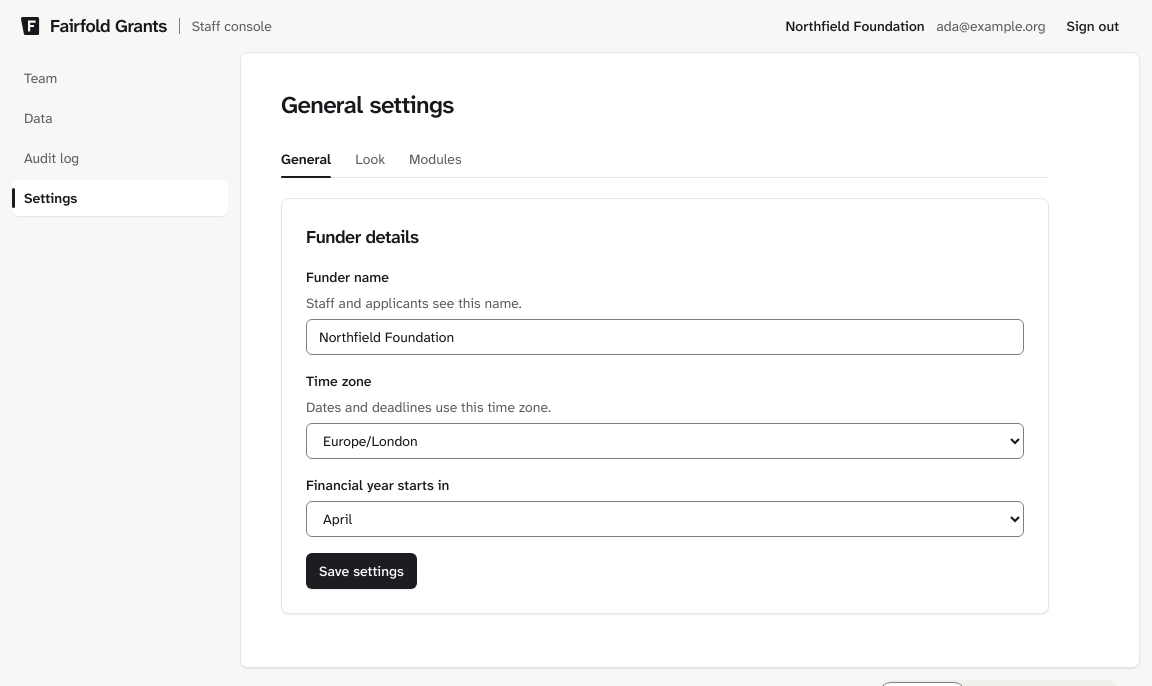
Test: the general settings page › says what is wrong beside the field and in the summary, from the API's answer
The image size is (1152, 686).
In the field labelled "Funder name": coordinates (665, 337) x1=306 y1=319 x2=1024 y2=355, type "!"
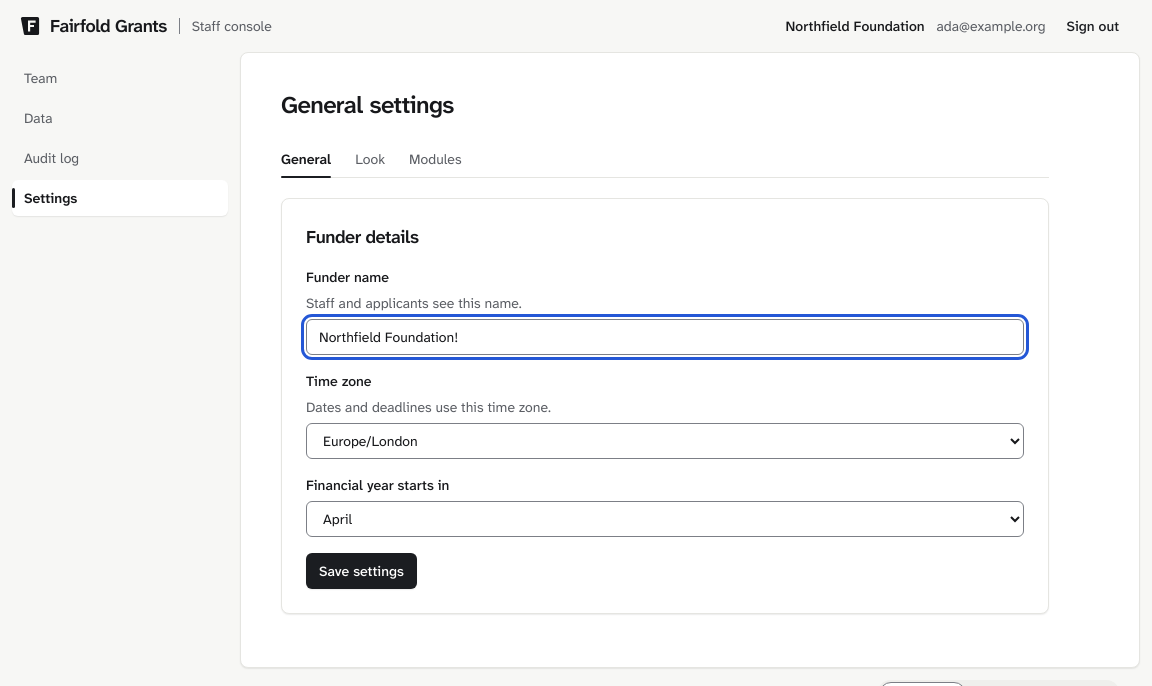
Click the button "Save settings": coordinates (361, 571) x1=306 y1=553 x2=417 y2=589
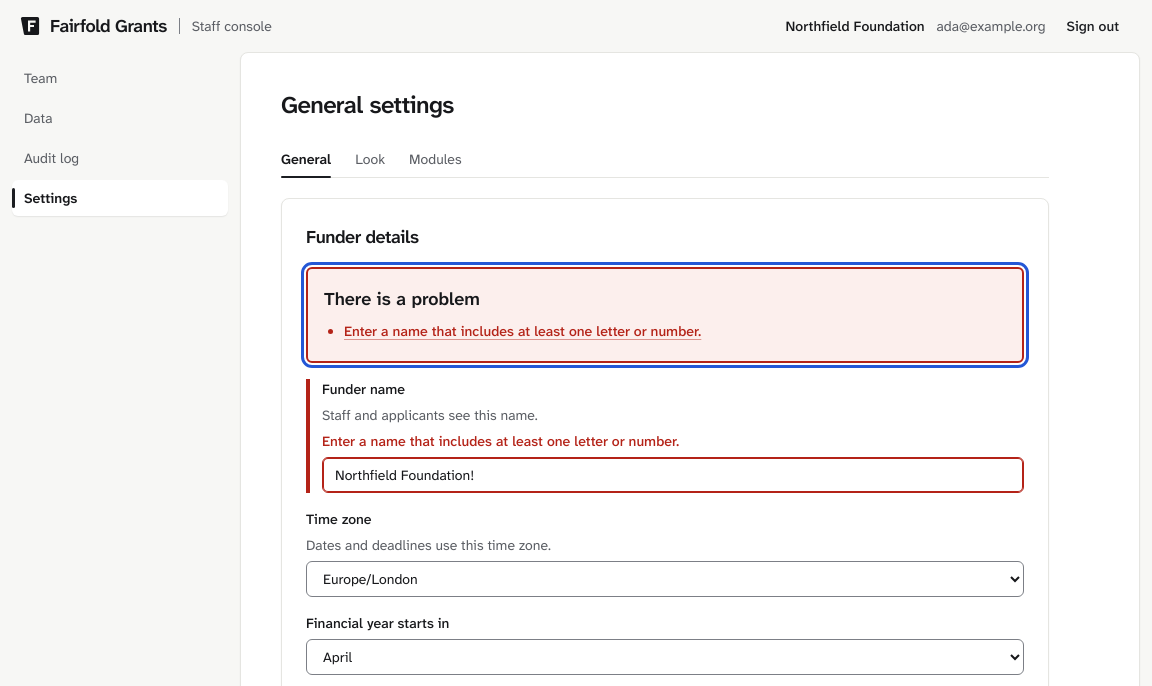
Expected: the link "Enter a name that includes at least one letter or number." is shown, x1=344 y1=322 x2=701 y2=340
